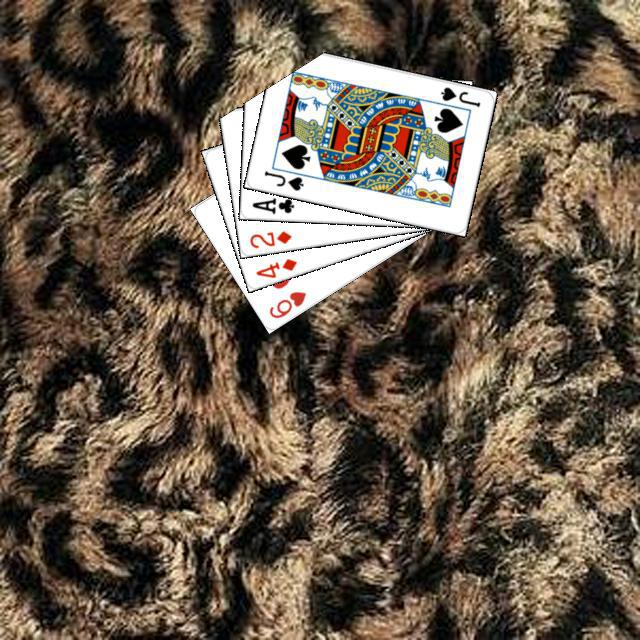2d: (245, 226, 293, 250)
4d: (251, 253, 299, 280)
6h: (264, 286, 308, 320)
Ac: (247, 193, 296, 216)
Js: (436, 82, 482, 109), (259, 166, 305, 192)
